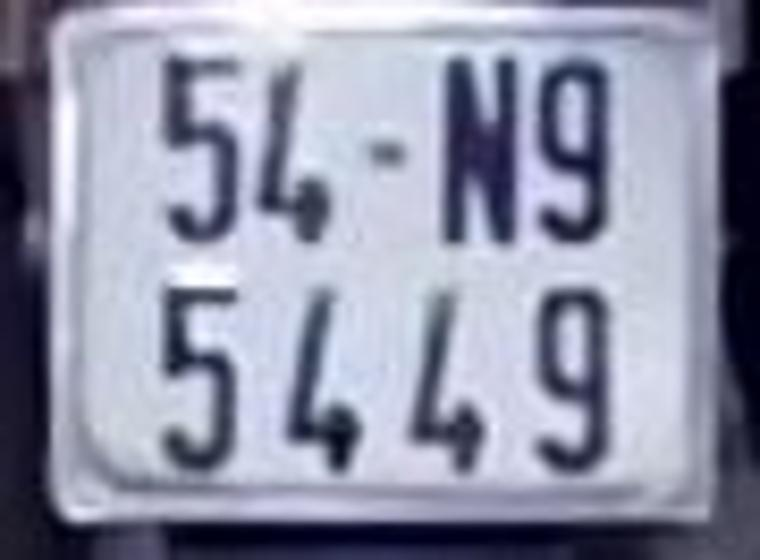-: (370, 140, 403, 162)
4: (407, 291, 483, 476), (282, 289, 360, 469), (260, 63, 327, 240)
5: (164, 52, 238, 243), (161, 287, 237, 472)
9: (531, 284, 605, 468), (542, 58, 605, 241)
N: (440, 58, 519, 240)
